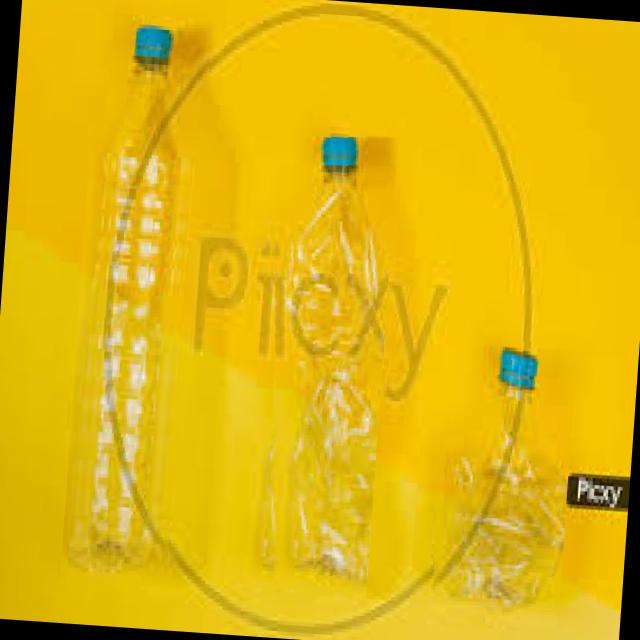plastic bottle: (59, 11, 213, 592), (239, 128, 398, 601), (419, 328, 578, 614)
